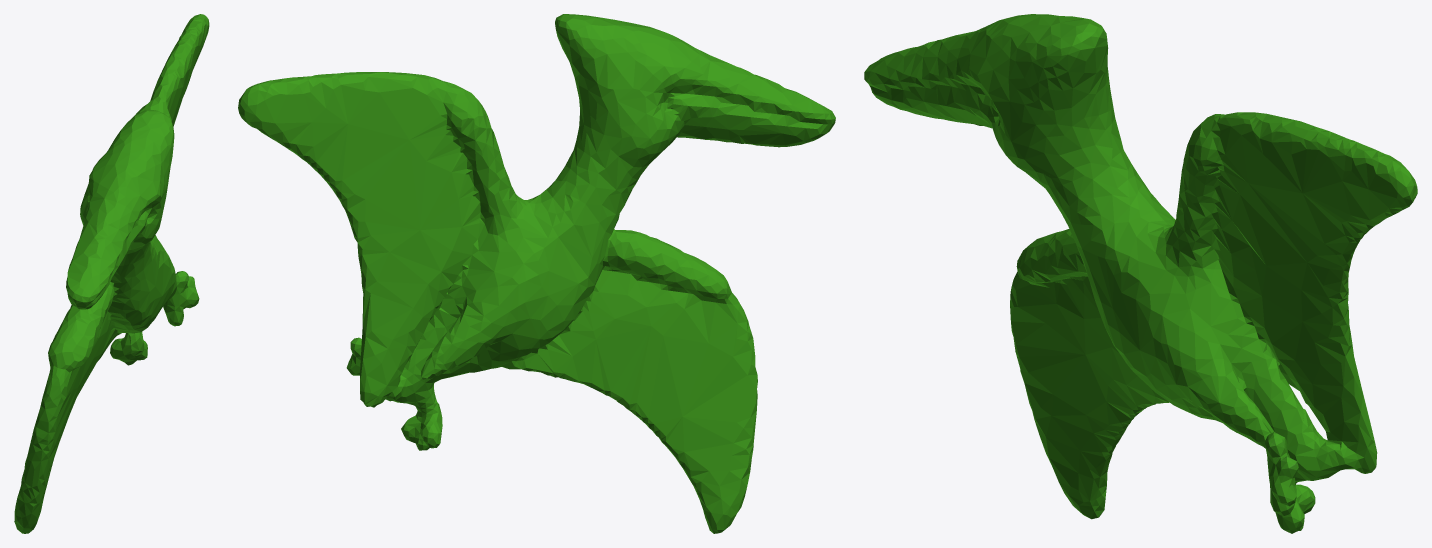
Rendered from Pterodáctilo.glb.
The picture shows the model from 3 angles, left to right: view 1: azimuth 30°, elevation 25°; view 2: azimuth 150°, elevation 25°; view 3: azimuth 270°, elevation 25°; orthographic projection. The views are drawn at different scales.
Visible parts, largest first — view 1: node_id3; view 2: node_id3; view 3: node_id3.
Part boxes in pixels (x1=…): node_id3: x1=14, y1=14, x2=209, y2=533; node_id3: x1=238, y1=14, x2=835, y2=533; node_id3: x1=864, y1=14, x2=1417, y2=533.
Size of the model in its own units: 0.4475 by 0.5371 by 0.4628.
1 material, 1 textured.
